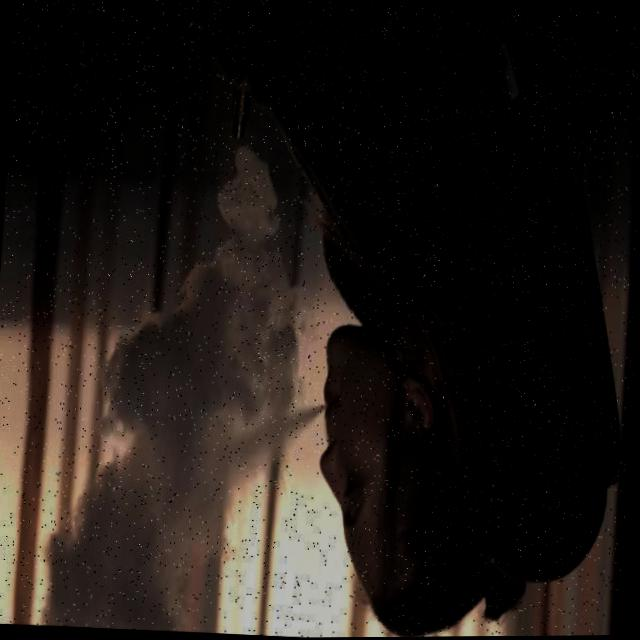Smoke: (25, 142, 328, 627)
